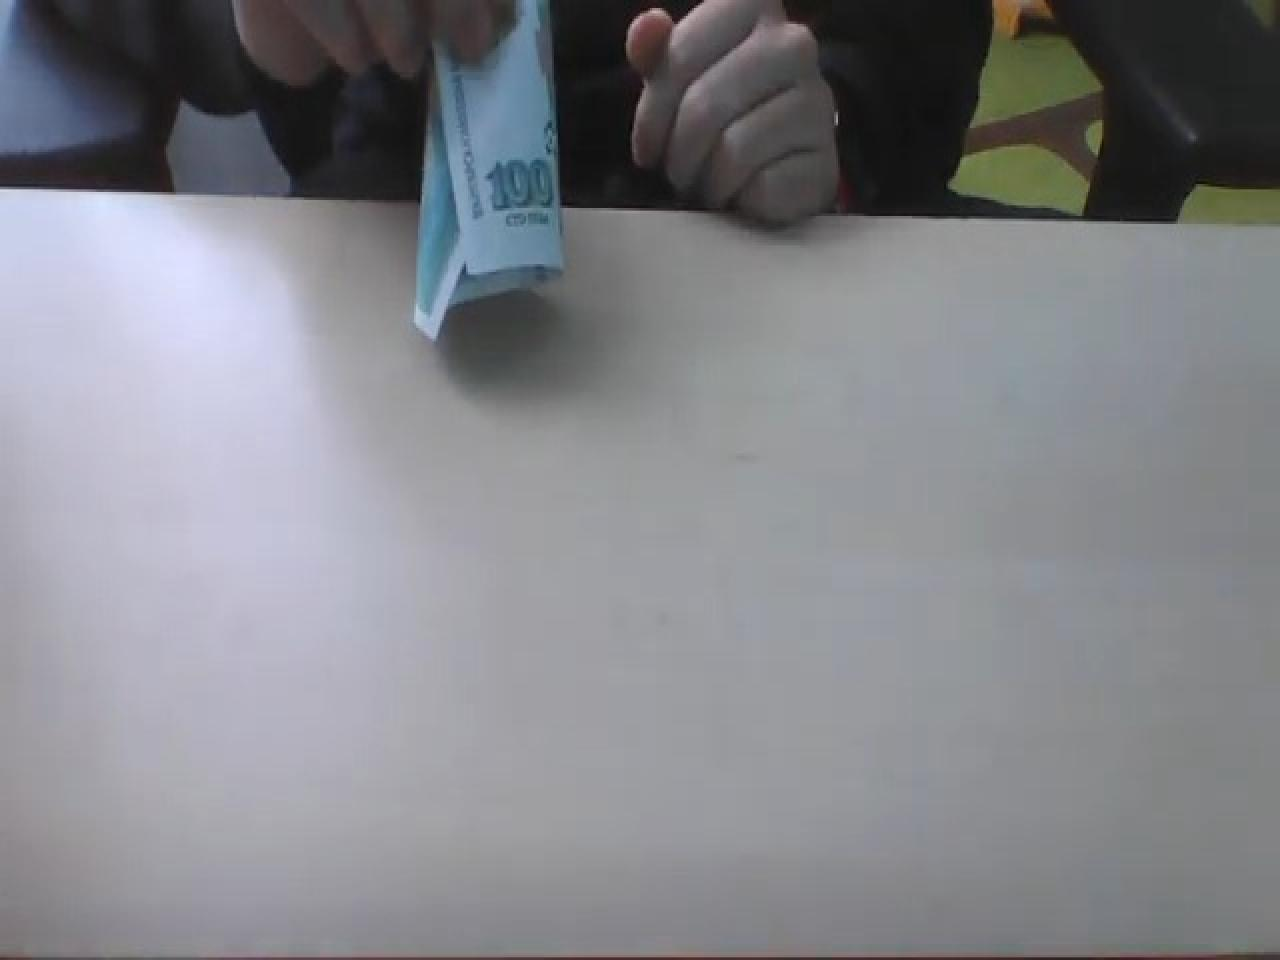100leva: (410, 0, 566, 339), (482, 151, 554, 213)
